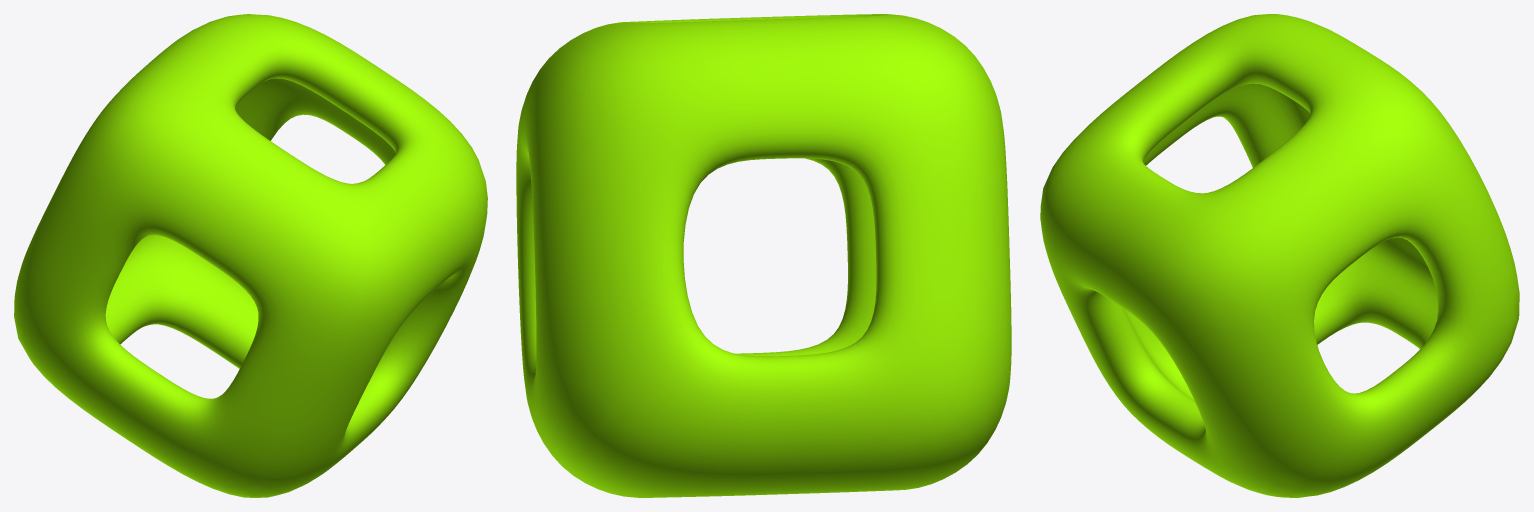
Rendered from cube-abstract-shape-animated-3d-icon-1284210180529.glb.
The picture shows the model from 3 angles, left to right: view 1: azimuth 30°, elevation 25°; view 2: azimuth 150°, elevation 25°; view 3: azimuth 270°, elevation 25°; orthographic projection. The views are drawn at different scales.
Parts seen in each view (by area): view 1: Cube With Holes; view 2: Cube With Holes; view 3: Cube With Holes.
Boxes of the visible parts, x1,y1,x2,y2 form: Cube With Holes: (14,14,487,497); Cube With Holes: (516,14,1011,497); Cube With Holes: (1040,14,1519,497).
Size of the model in its own units: 2.37 by 2.23 by 2.45.
